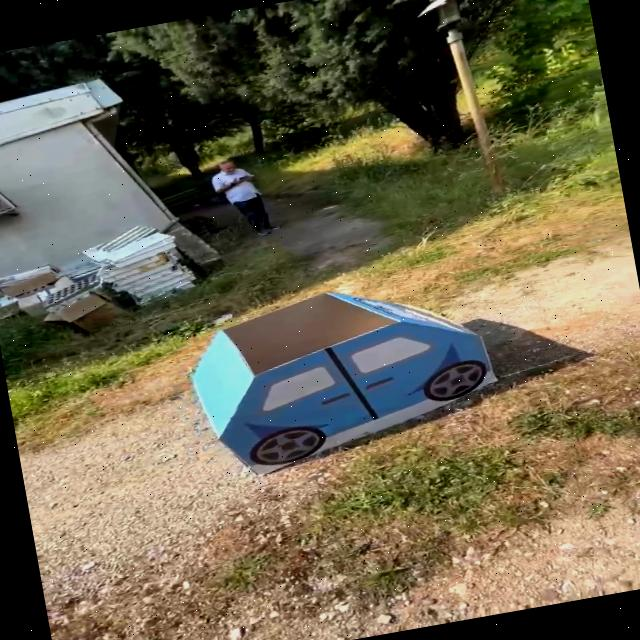blue_car: (148, 249, 540, 504)
